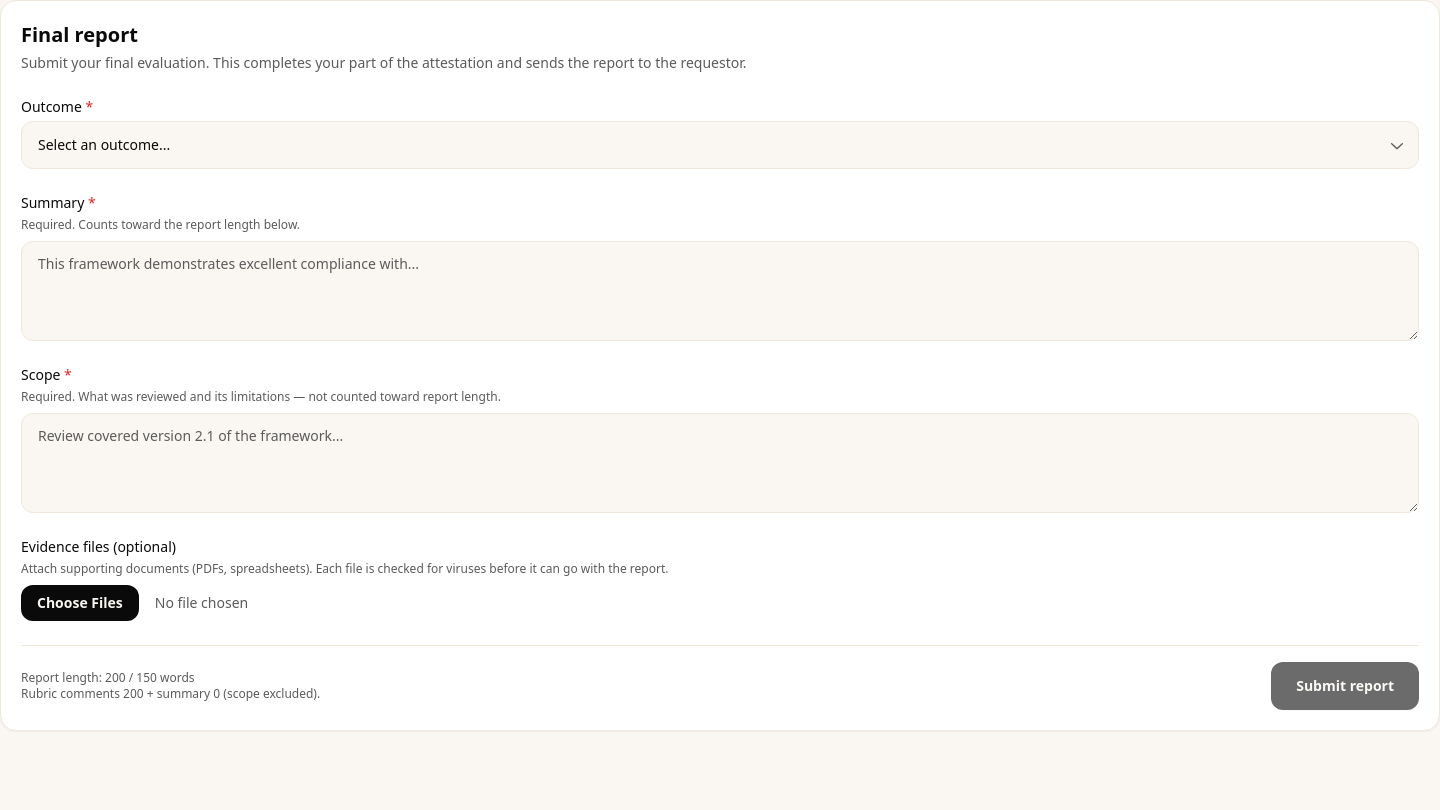
Test: ReportPanel › saves the report as it is written
Type "This review summary is long enough for submission." into the text box with placeholder "This framework demonstrates excellent compliance with..." at point(720, 291), box left=21, top=241, right=1419, bottom=341
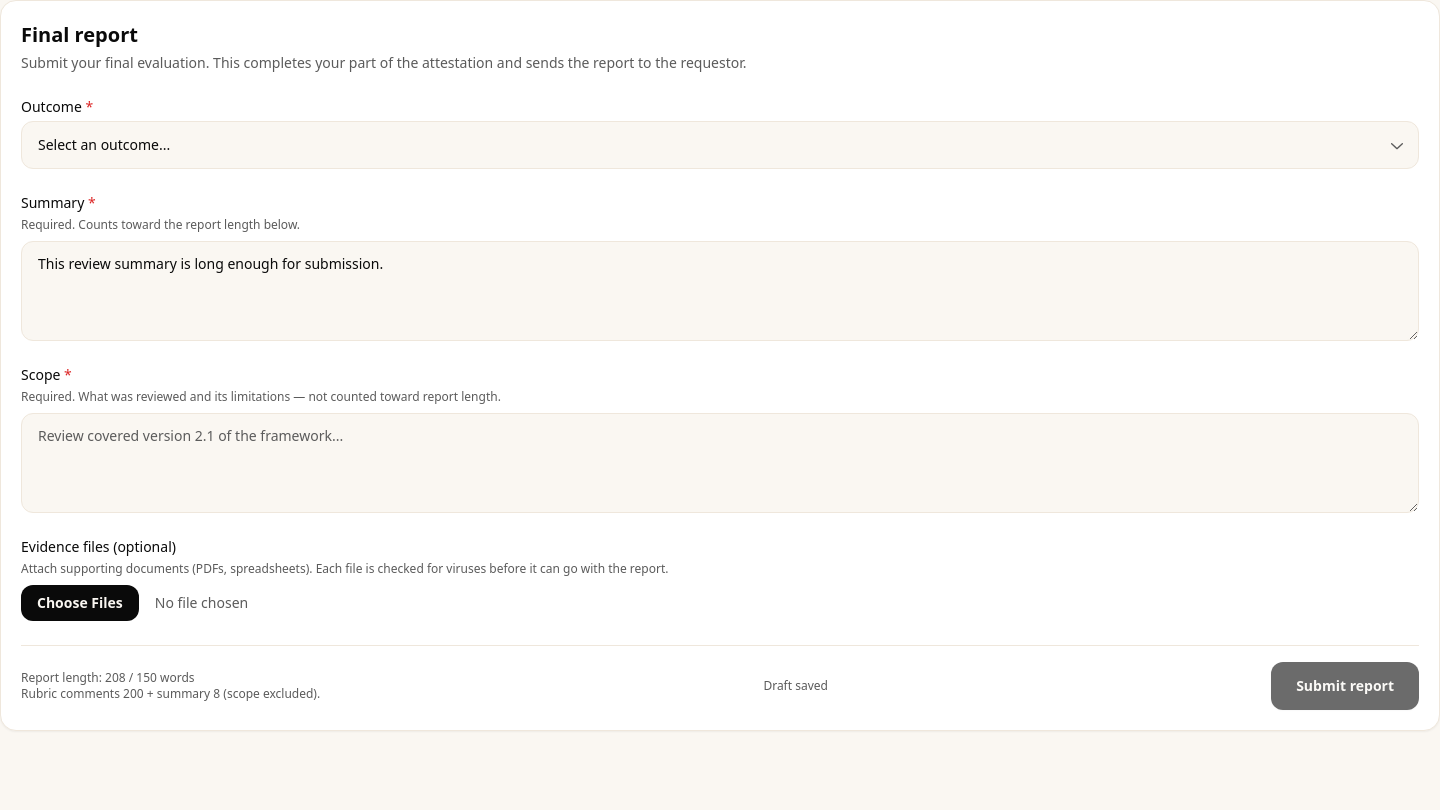
Expected: the text "Draft saved" is shown, left=763, top=678, right=828, bottom=694
